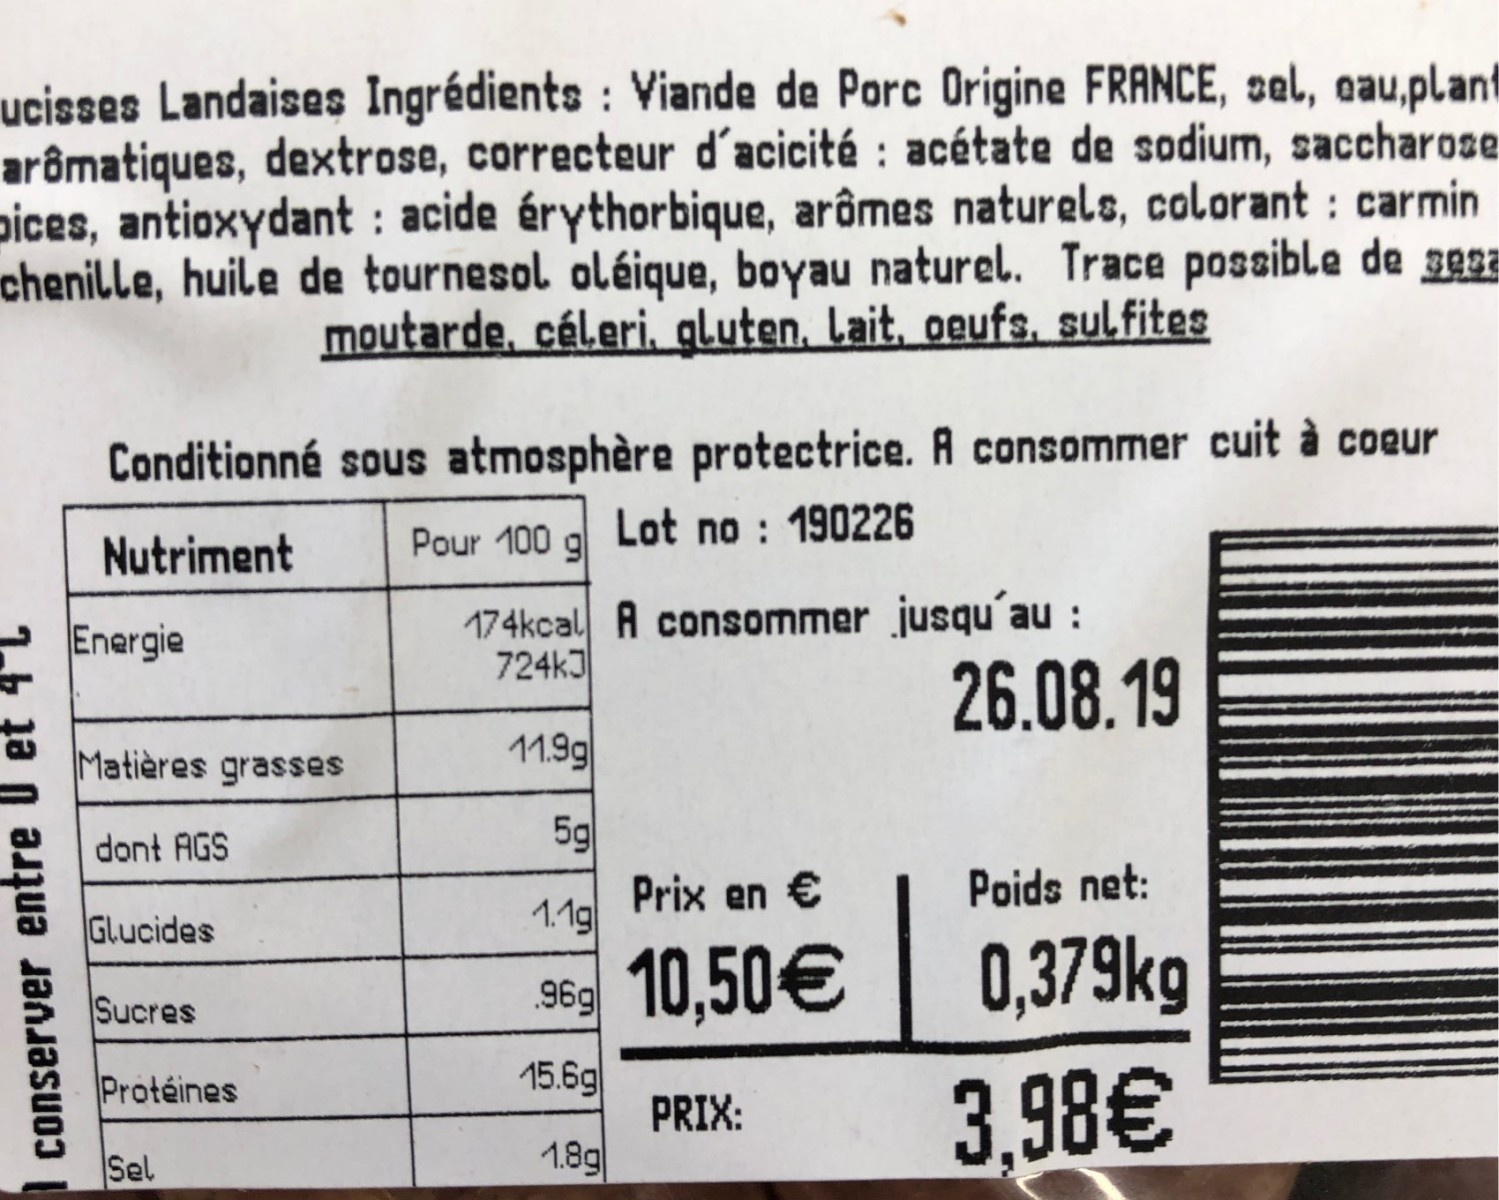column: (72, 535, 348, 1180), (408, 525, 601, 1176)
table: (58, 500, 611, 1187)
